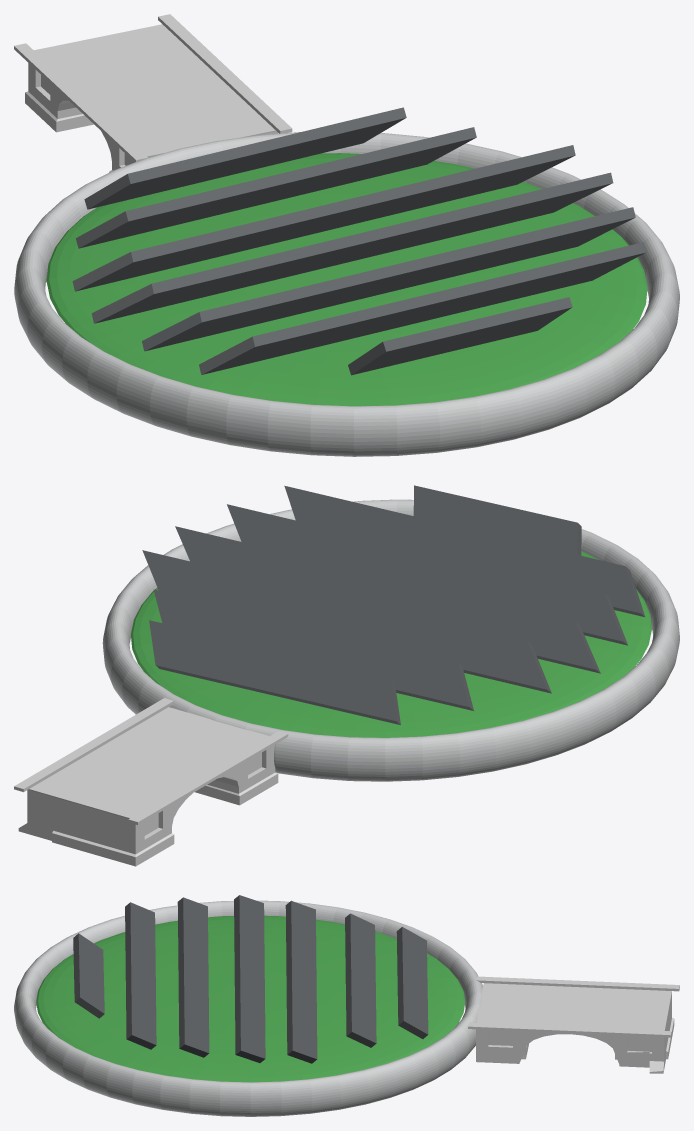
File: ExquisiteJofo6.glb
The picture shows the model from 3 angles, top to bottom: view 1: azimuth 30°, elevation 25°; view 2: azimuth 150°, elevation 25°; view 3: azimuth 270°, elevation 25°; orthographic projection. The views are drawn at different scales.
Parts seen in each view (by area): view 1: Mesh_Mesh_head_geo.001_lambert2SG.001; view 2: Mesh_Mesh_head_geo.001_lambert2SG.001; view 3: Mesh_Mesh_head_geo.001_lambert2SG.001.
Part boxes in pixels (<box>): Mesh_Mesh_head_geo.001_lambert2SG.001: <box>14,14,679,456</box>; Mesh_Mesh_head_geo.001_lambert2SG.001: <box>14,485,679,866</box>; Mesh_Mesh_head_geo.001_lambert2SG.001: <box>14,895,679,1116</box>.
Size of the model in its own units: 0.061 by 0.00999 by 0.09.
